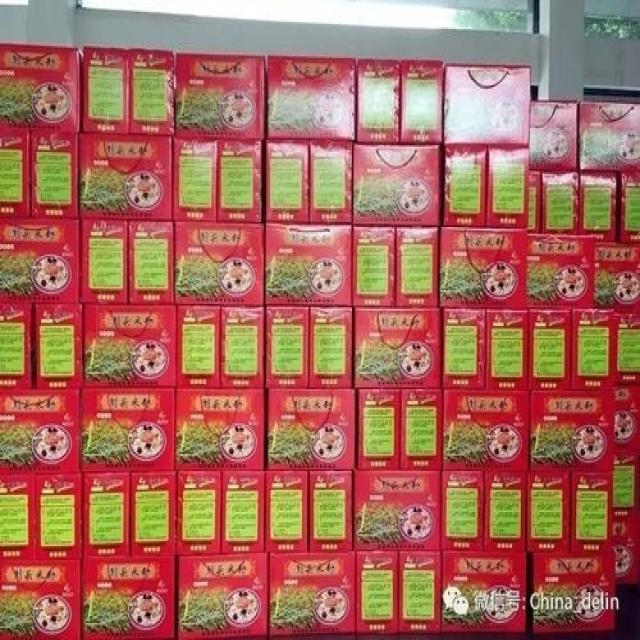box: (78, 127, 173, 217), (80, 387, 178, 472), (173, 221, 265, 307), (174, 52, 267, 137), (82, 305, 177, 388), (82, 555, 177, 638), (173, 387, 265, 471), (177, 554, 268, 638), (355, 139, 443, 225), (270, 549, 356, 637), (264, 389, 356, 470), (443, 386, 532, 469), (266, 222, 351, 307), (0, 42, 84, 128), (442, 550, 528, 634), (531, 547, 615, 633), (440, 225, 527, 308), (353, 308, 444, 387), (530, 386, 617, 468), (268, 56, 356, 137), (353, 471, 442, 551), (0, 387, 80, 474), (1, 214, 79, 302), (444, 65, 530, 143), (1, 558, 82, 638), (528, 232, 596, 307), (29, 127, 80, 216), (32, 473, 82, 563), (32, 300, 83, 386), (80, 216, 129, 305), (81, 472, 132, 555), (82, 47, 130, 133), (217, 135, 264, 222), (220, 467, 267, 554), (126, 217, 174, 302), (443, 140, 489, 228), (595, 236, 639, 328), (579, 101, 639, 168), (309, 136, 355, 223), (172, 134, 218, 220), (264, 137, 310, 223), (175, 305, 221, 391), (308, 469, 356, 551), (526, 466, 571, 552), (131, 47, 175, 134), (482, 469, 528, 552), (131, 470, 174, 558), (265, 467, 309, 553), (395, 225, 441, 307), (220, 307, 266, 389), (398, 60, 444, 141), (400, 386, 444, 470), (351, 225, 396, 307), (175, 470, 220, 552), (353, 549, 398, 631), (355, 60, 399, 143), (399, 549, 443, 632), (527, 307, 572, 387), (441, 468, 484, 551), (571, 305, 615, 386), (265, 307, 310, 386), (487, 142, 529, 226), (310, 307, 353, 389), (572, 466, 612, 552), (356, 390, 400, 468), (611, 463, 639, 585), (484, 309, 527, 388), (443, 309, 486, 385), (530, 102, 579, 168), (0, 300, 34, 391), (579, 167, 620, 241), (0, 475, 35, 560), (541, 167, 581, 234), (1, 126, 29, 214), (613, 382, 639, 463), (619, 166, 639, 241), (615, 326, 639, 386), (527, 166, 541, 232)
